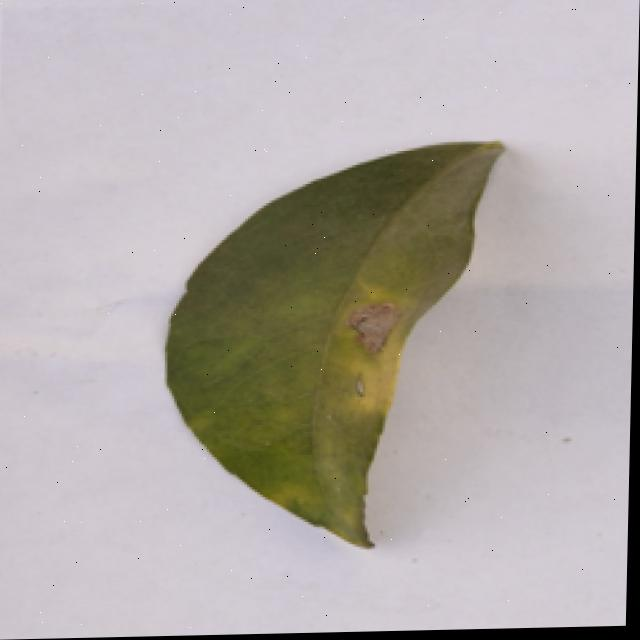canker: (168, 146, 500, 546), (327, 287, 410, 368)
